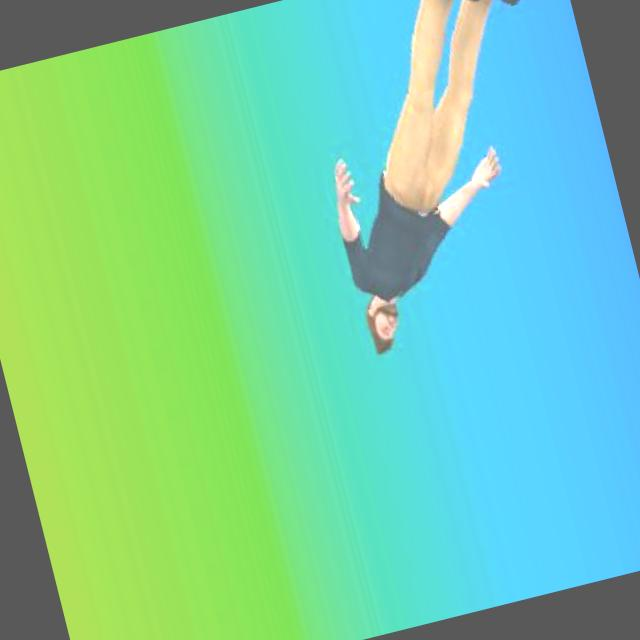Person: (278, 0, 606, 357)
